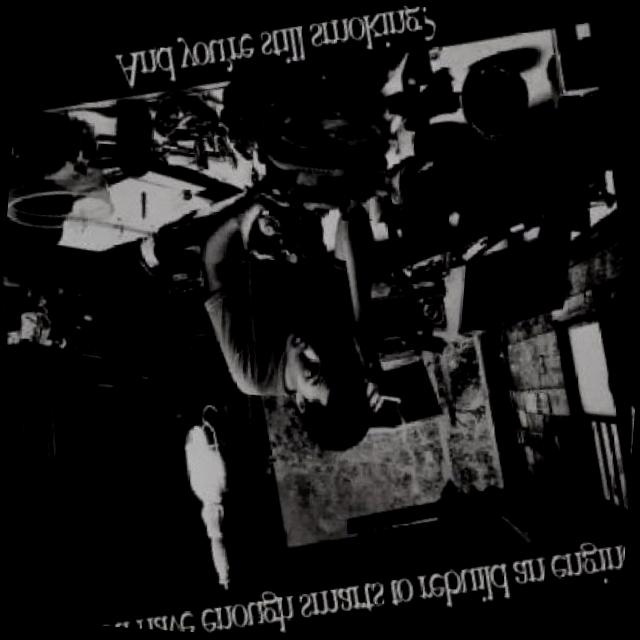smoke: (376, 388, 404, 408)
